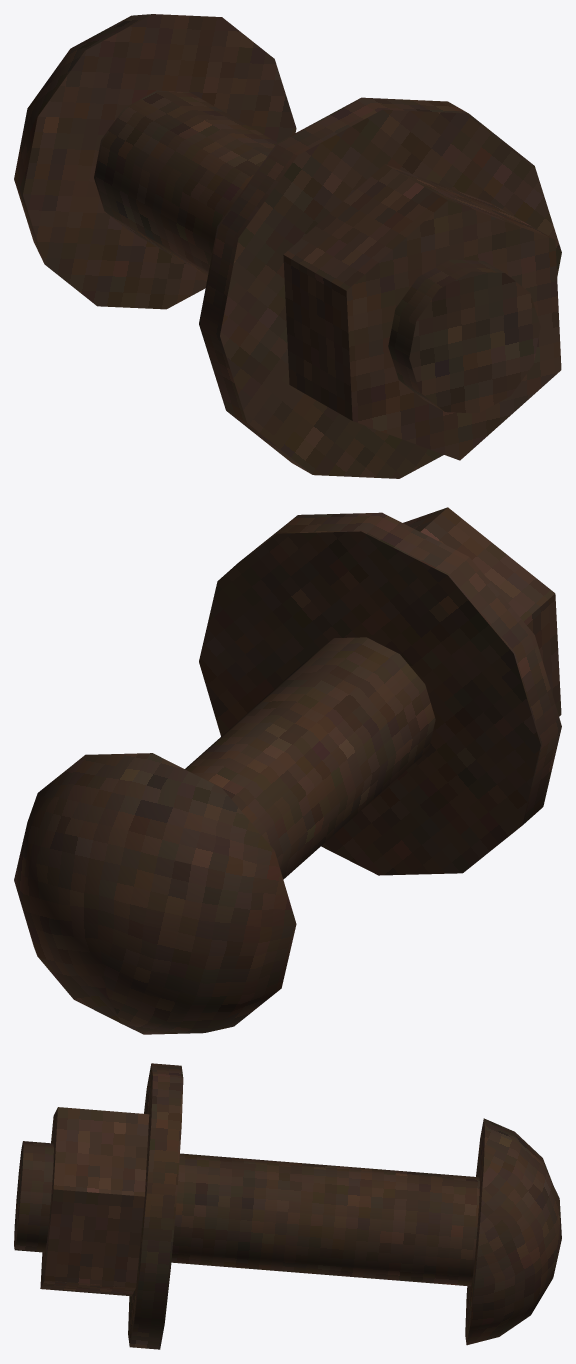
File: bolt_mx_1.glb
The picture shows the model from 3 angles, top to bottom: view 1: azimuth 30°, elevation 25°; view 2: azimuth 150°, elevation 25°; view 3: azimuth 270°, elevation 25°; orthographic projection. The views are drawn at different scales.
Visible parts, largest first — view 1: bolt_mx_1; view 2: bolt_mx_1; view 3: bolt_mx_1.
Part boxes in pixels (x1,y1,x2,y2): bolt_mx_1: [14, 14, 561, 478]; bolt_mx_1: [14, 507, 561, 1034]; bolt_mx_1: [14, 1063, 561, 1349].
Bounding box in the file's own units: 0.0936 × 0.0941 × 0.1794.
1 material, 1 textured.
